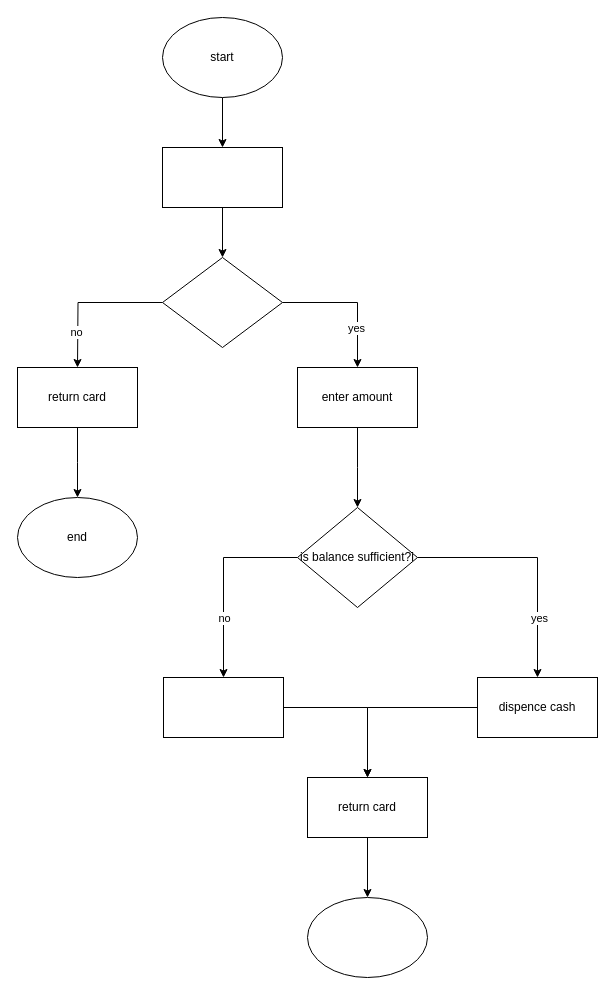
The diagram is 615 pixels wide and 995 high, and some of its shapes have lost their labels. The centre of each missing label's shape, as x and y in pixels:
enter pin: point 222,177
insufficient funds: point 223,707
is pin correct?: point 222,302
